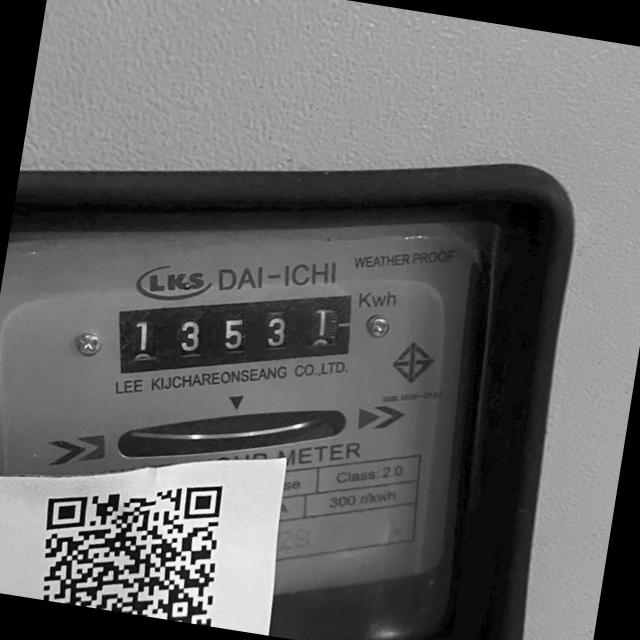qr_code: (41, 482, 226, 627)
